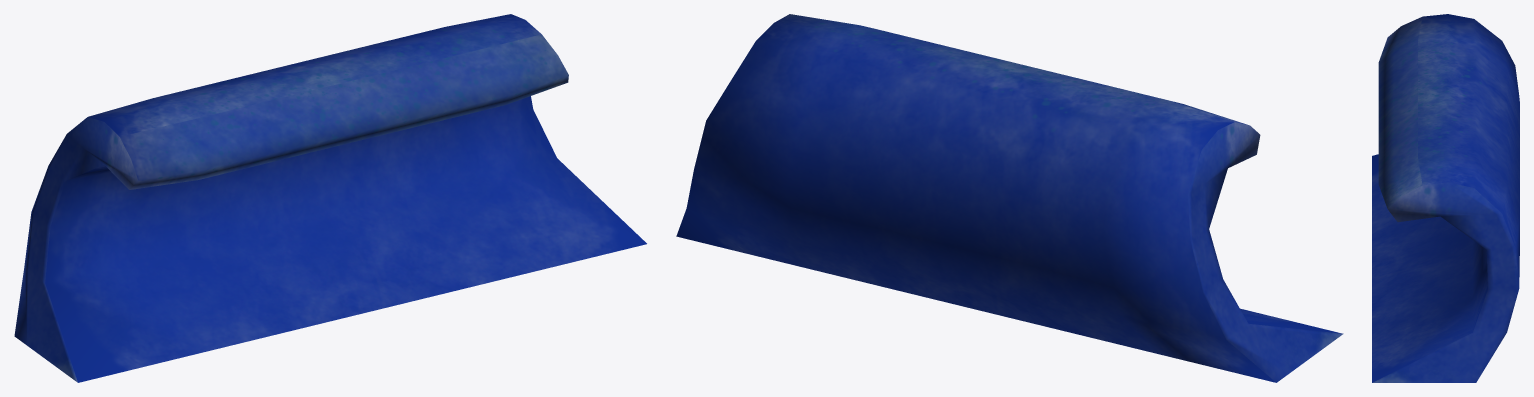
File: Onda.fbx
The picture shows the model from 3 angles, left to right: view 1: azimuth 30°, elevation 25°; view 2: azimuth 150°, elevation 25°; view 3: azimuth 270°, elevation 25°; orthographic projection. The views are drawn at different scales.
Visible parts, largest first — view 1: Onda; view 2: Onda; view 3: Onda.
Part boxes in pixels (x1,y1,x2,y2): Onda: (14,14,646,382); Onda: (676,14,1343,382); Onda: (1372,14,1519,382).
Bounding box in the file's own units: 987 × 351 × 271.
